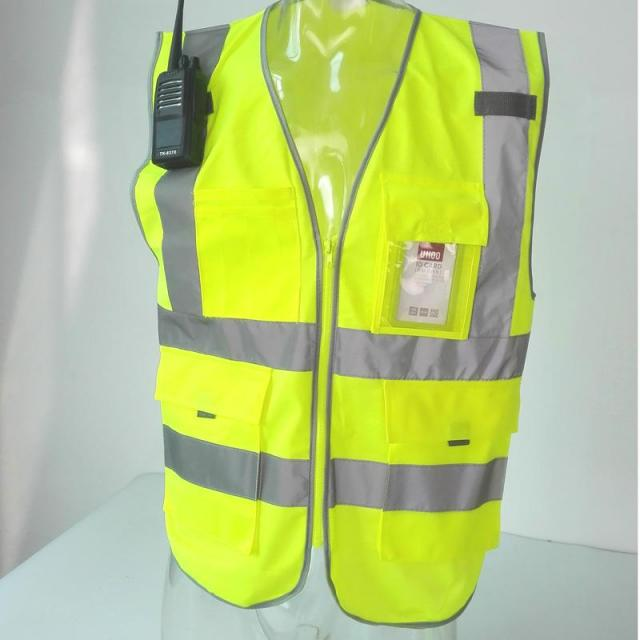Reflective-Jacket: (119, 1, 567, 636)
